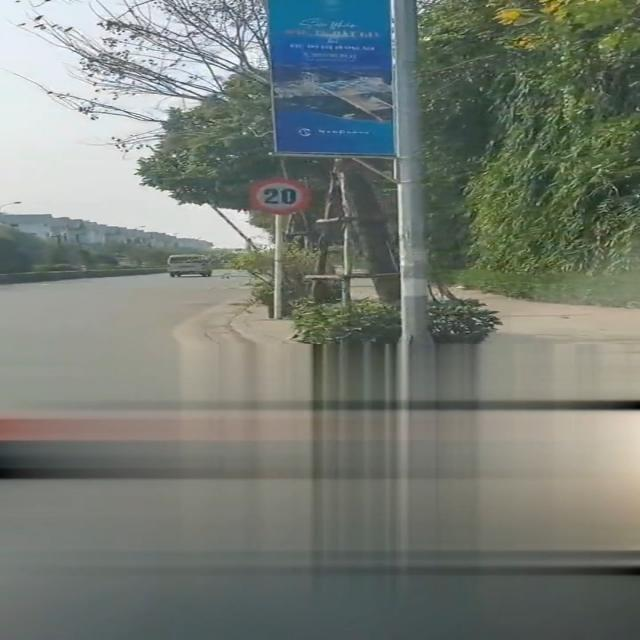127-toc-do-toi-da-20: (249, 178, 311, 214)
